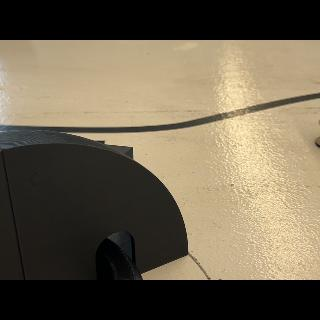teletubby: (318, 119, 320, 125)
